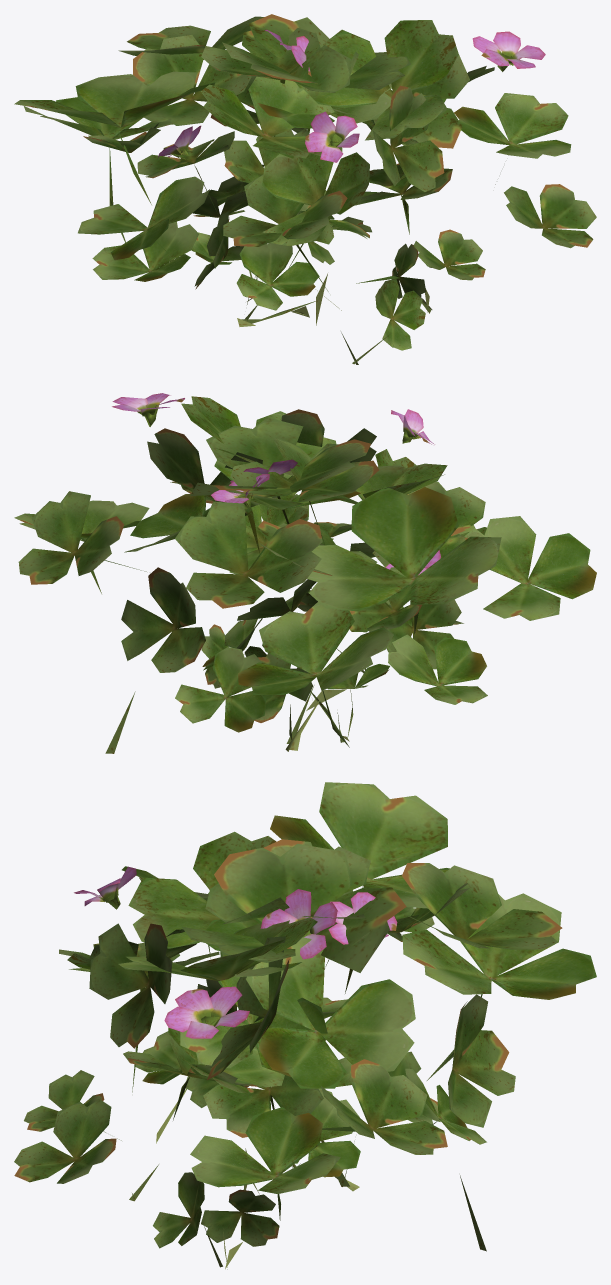
Rendered from shrub-leafy-04-lod0.glb.
The picture shows the model from 3 angles, top to bottom: view 1: azimuth 30°, elevation 25°; view 2: azimuth 150°, elevation 25°; view 3: azimuth 270°, elevation 25°; orthographic projection. The views are drawn at different scales.
Parts seen in each view (by area): view 1: shrub-leafy-04_MATERIAL_BATCH; view 2: shrub-leafy-04_MATERIAL_BATCH; view 3: shrub-leafy-04_MATERIAL_BATCH.
Boxes of the visible parts, x1,y1,x2,y2 form: shrub-leafy-04_MATERIAL_BATCH: (14,14,596,364); shrub-leafy-04_MATERIAL_BATCH: (14,393,596,753); shrub-leafy-04_MATERIAL_BATCH: (14,782,596,1269).
Size of the model in its own units: 1.12 by 0.6001 by 0.9374.
1 material, 1 textured.
